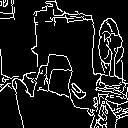cube: (42, 50, 77, 98)
